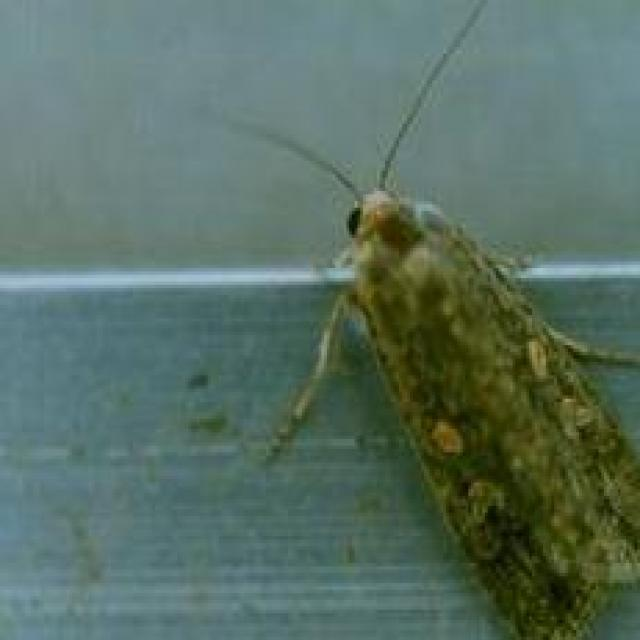BeetArmyWorm-Adult-: (267, 138, 637, 636)
